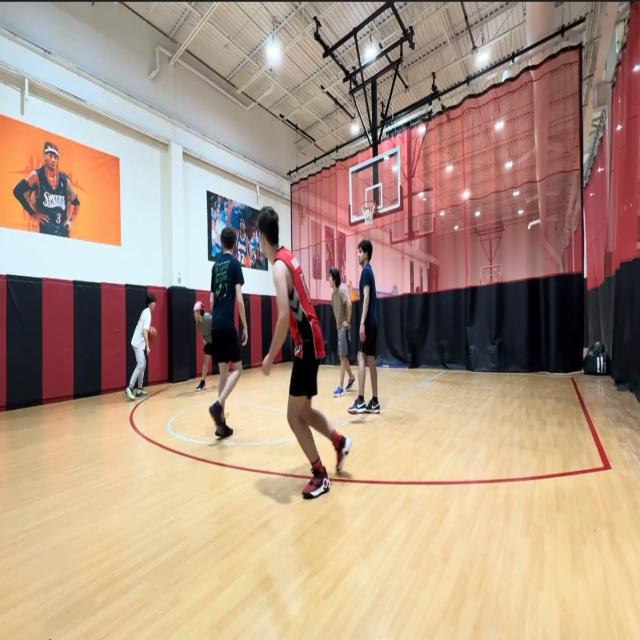Basketball: (148, 324, 156, 343)
Basketball Rim: (360, 200, 376, 227)
